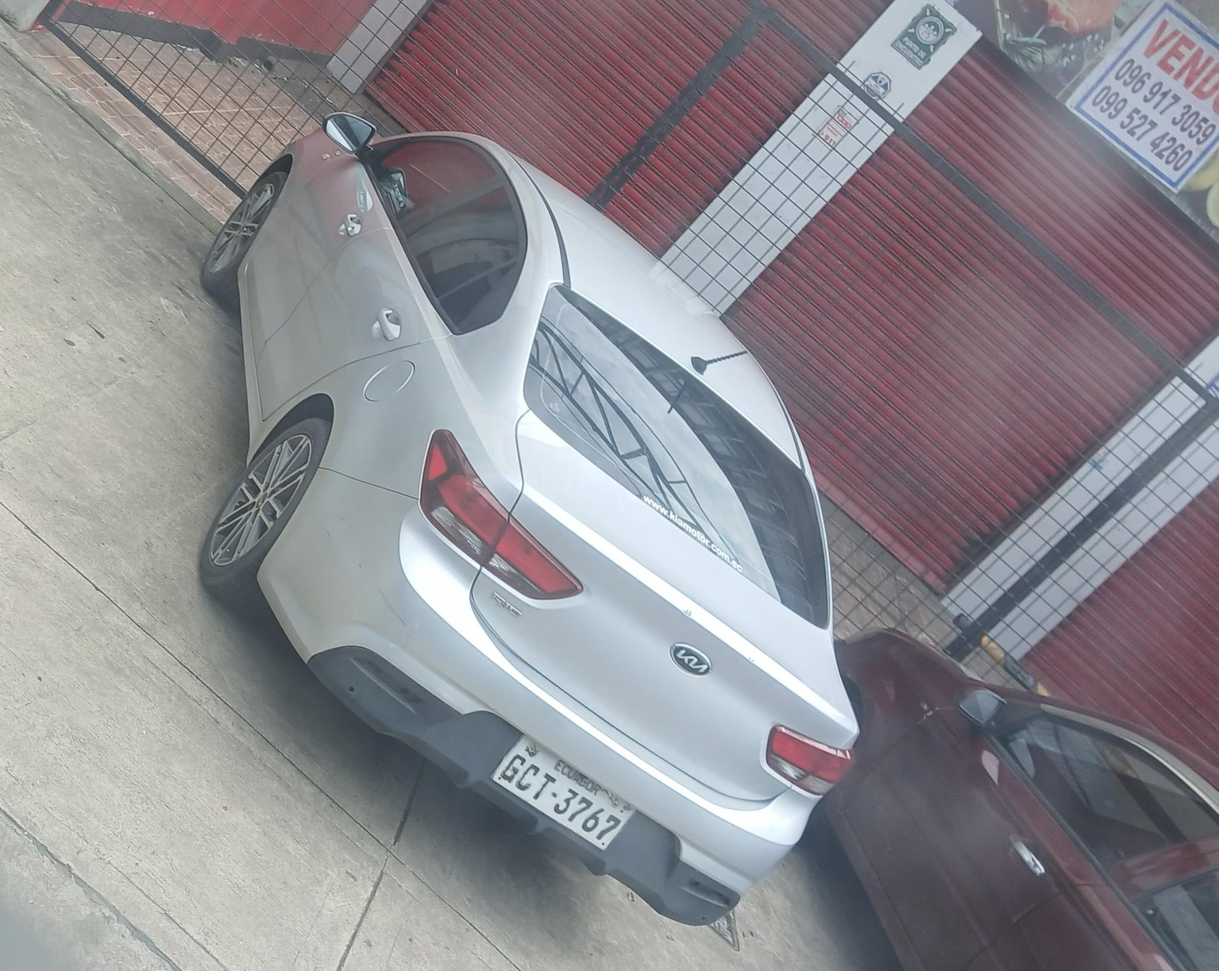license_plate: (491, 737, 632, 849)
